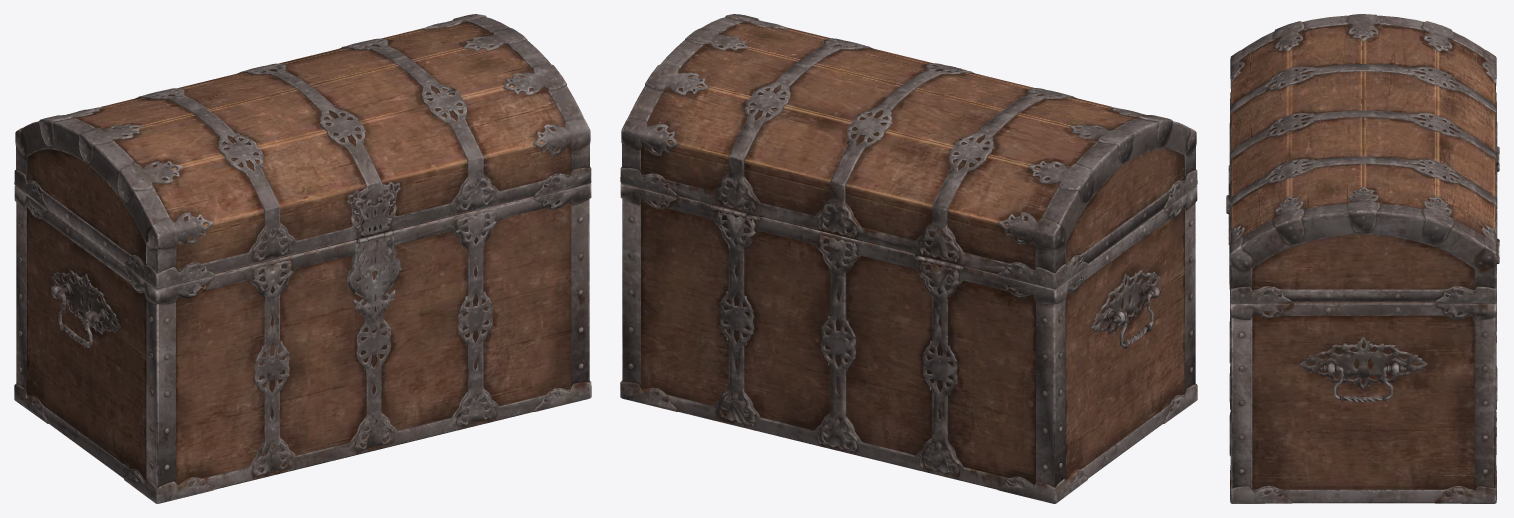
File: treasure_chest.glb
3 renders of one model, left to right at view 1: azimuth 30°, elevation 25°; view 2: azimuth 150°, elevation 25°; view 3: azimuth 270°, elevation 25°, orthographic. The views are drawn at different scales.
Parts seen in each view (by area): view 1: treasure_chest_bottom; view 2: treasure_chest_bottom; view 3: treasure_chest_bottom.
Part boxes in pixels (left/top/right/bottom): treasure_chest_bottom: left=14, top=14, right=591, bottom=503; treasure_chest_bottom: left=620, top=14, right=1197, bottom=503; treasure_chest_bottom: left=1226, top=14, right=1499, bottom=503.
Bounding box in the file's own units: 0.959 × 0.6189 × 0.5227.
1 material, 1 textured.
